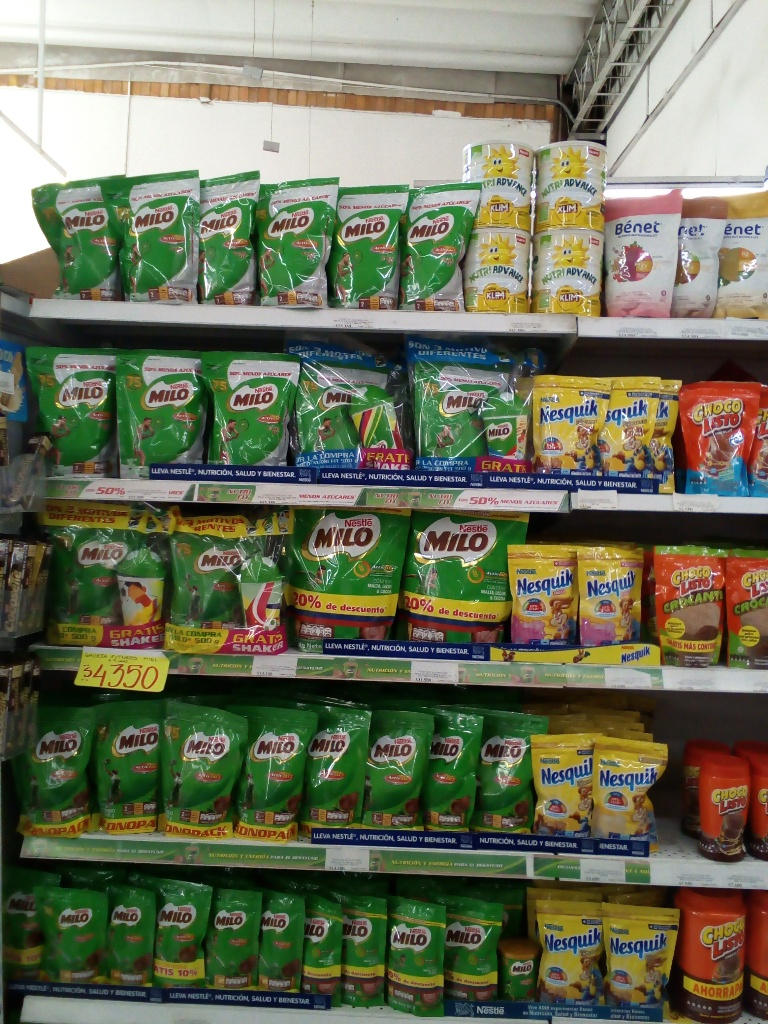COL0170102DYP25000: (650, 538, 724, 664)
COL0170103TRR00100: (675, 884, 749, 1024)
COL0170103TRR30000: (702, 751, 750, 867)
COL0170104DYP20000: (678, 378, 761, 498)
COL0170203DYP10000: (34, 885, 108, 988)
COL0170203DYP25000: (26, 704, 93, 840)
COL0170203DYP50000: (38, 519, 120, 636)
COL0170203LAT20000: (501, 941, 542, 1004)
COL0170205DYP50000: (27, 348, 117, 477)
COL0170303DYP20000: (532, 892, 602, 1011)
COL0170305DYP20000: (505, 534, 580, 657)
COL0170306DYP20000: (531, 729, 592, 839)
